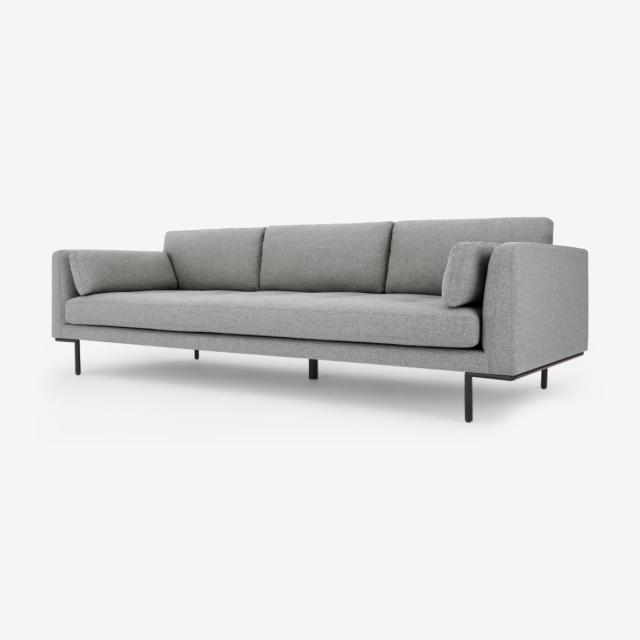back_cushion: (59, 218, 551, 306)
left_arm: (482, 242, 587, 377)
legs: (55, 339, 81, 375), (465, 373, 472, 422), (308, 360, 318, 380), (541, 371, 547, 384), (194, 350, 199, 360)
right_arm: (45, 250, 77, 337)
seat_cushion: (63, 290, 481, 348)
stallion-sofa: (0, 0, 639, 639)
